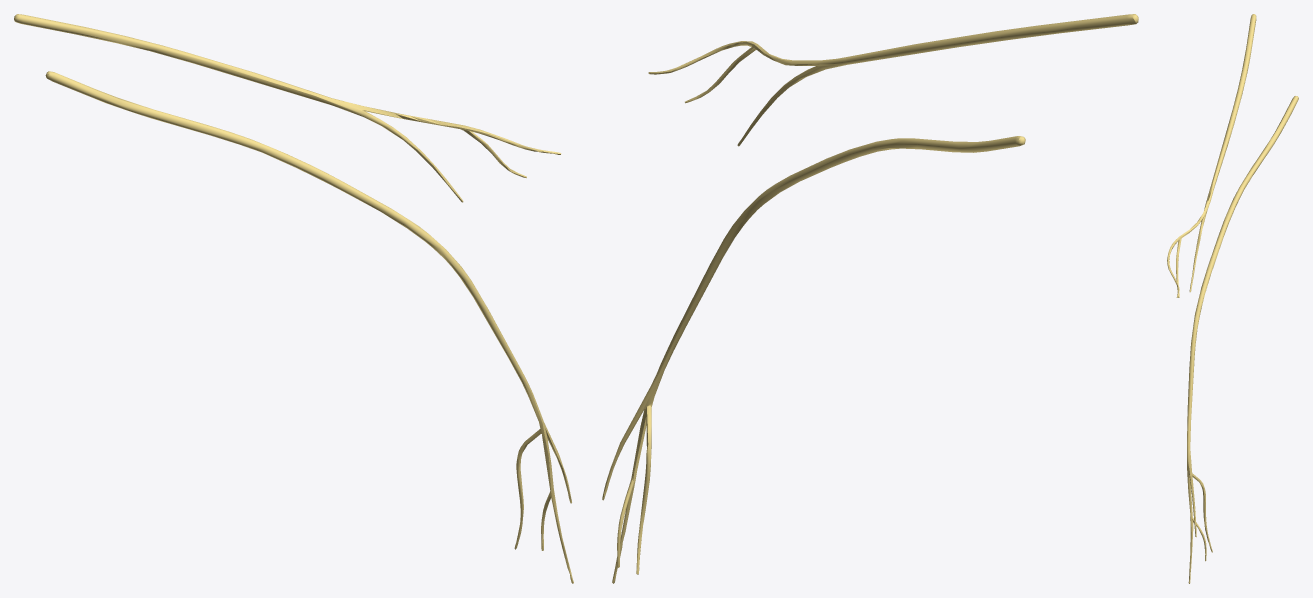
File: fma65908_fj4185.glb
3 views of the same model, side by side, from view 1: azimuth 30°, elevation 25°; view 2: azimuth 150°, elevation 25°; view 3: azimuth 270°, elevation 25° (orthographic). The views are drawn at different scales.
Visible parts, largest first — view 1: FMA65908_FJ4185; view 2: FMA65908_FJ4185; view 3: FMA65908_FJ4185.
Part boxes in pixels (x1=…): FMA65908_FJ4185: x1=14, y1=14, x2=573, y2=583; FMA65908_FJ4185: x1=602, y1=14, x2=1138, y2=583; FMA65908_FJ4185: x1=1167, y1=14, x2=1298, y2=583.
Bounding box in the file's own units: 0.12 × 0.1468 × 0.0423.
